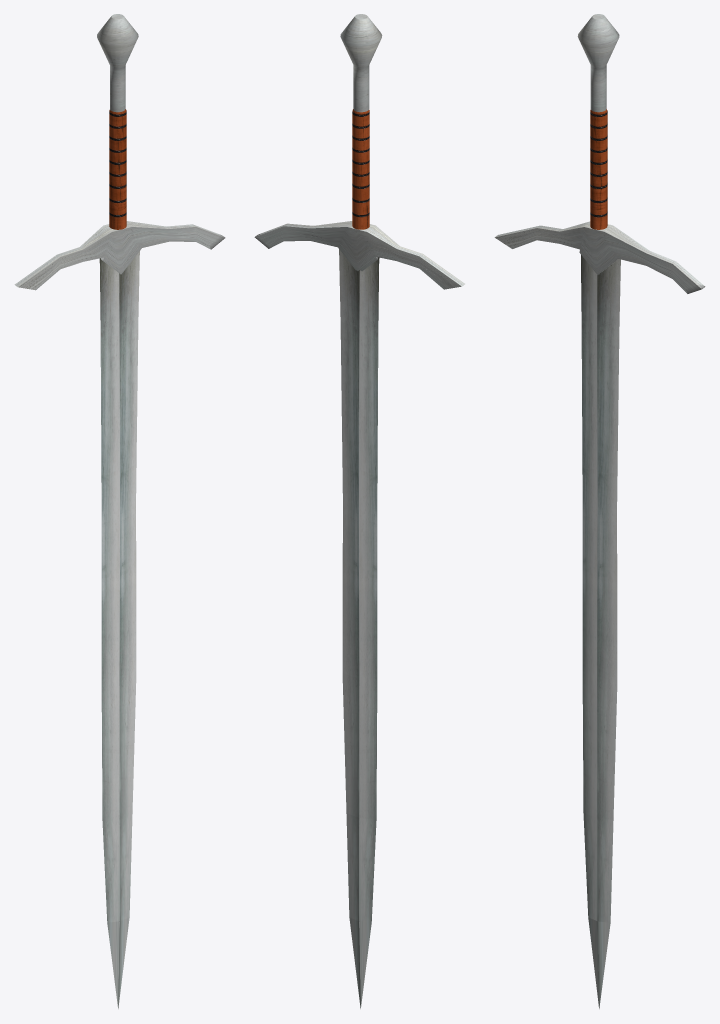
The model's file is Sword_02_02.fbx.
3 views of the same model, side by side, from view 1: azimuth 30°, elevation 25°; view 2: azimuth 150°, elevation 25°; view 3: azimuth 330°, elevation 25° (orthographic).
Parts seen in each view (by area): view 1: polySurface4; view 2: polySurface4; view 3: polySurface4.
Boxes of the visible parts, x1,y1,x2,y2 form: polySurface4: [14, 14, 225, 1008]; polySurface4: [254, 14, 464, 1008]; polySurface4: [494, 14, 705, 1008].
Size of the model in its own units: 6.27 by 28.67 by 1.1.
